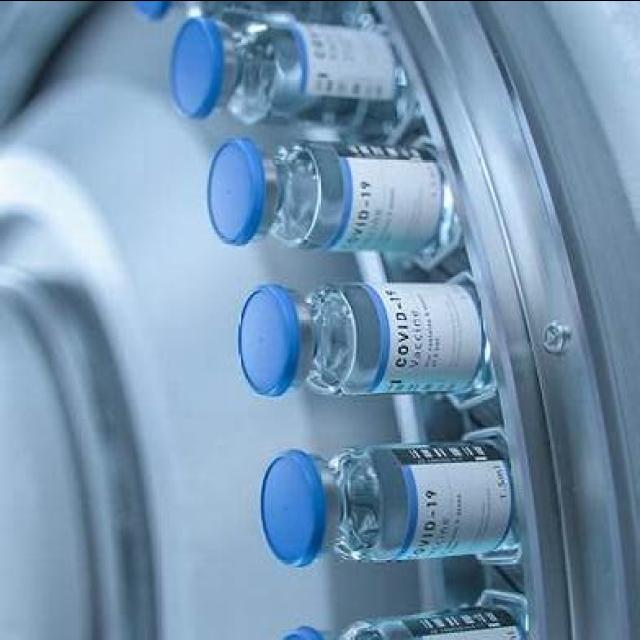vial: (252, 428, 326, 565), (238, 282, 298, 403), (172, 16, 234, 120), (214, 126, 268, 240), (266, 606, 342, 640), (140, 0, 210, 17)
